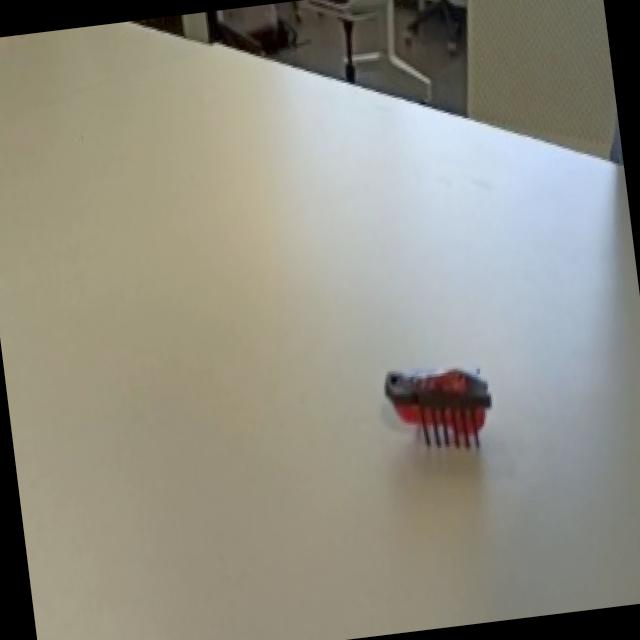2_NanoBug_Negro: (356, 319, 529, 494)
